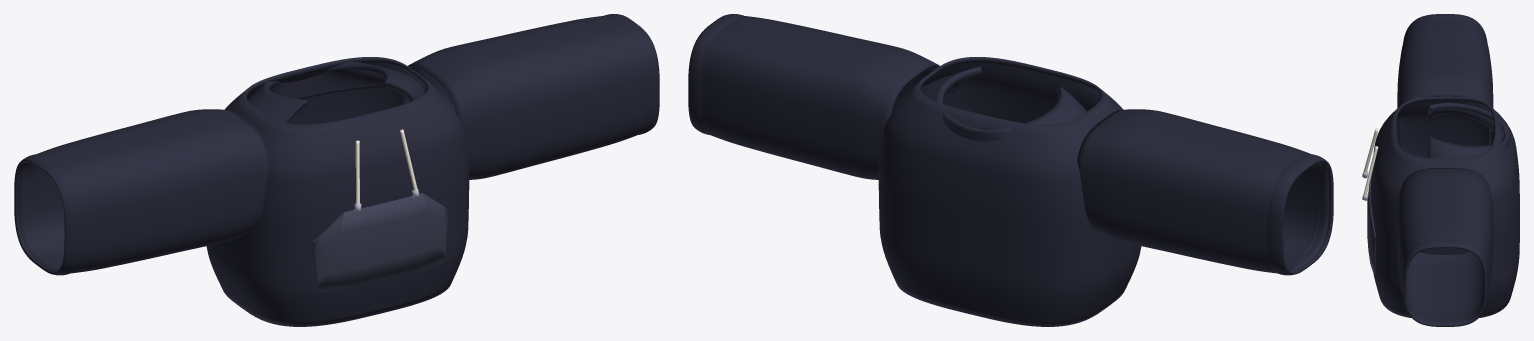
Rendered from homie_hoodie.glb.
3 views of the same model, side by side, from view 1: azimuth 30°, elevation 25°; view 2: azimuth 150°, elevation 25°; view 3: azimuth 270°, elevation 25° (orthographic). The views are drawn at different scales.
Parts seen in each view (by area): view 1: homie_hoodie__body, homie_hoodie__sleeve_r, homie_hoodie__sleeve_l, homie_hoodie__kangaroo_pocket, homie_hoodie__folded_hood, homie_hoodie__cuff_r, homie_hoodie__cuff_l; view 2: homie_hoodie__body, homie_hoodie__sleeve_r, homie_hoodie__sleeve_l, homie_hoodie__cuff_r, homie_hoodie__folded_hood, homie_hoodie__cuff_l; view 3: homie_hoodie__body, homie_hoodie__sleeve_l, homie_hoodie__sleeve_r, homie_hoodie__folded_hood, homie_hoodie__cuff_l, homie_hoodie__kangaroo_pocket, homie_hoodie__cuff_r, homie_hoodie__drawstring_l, homie_hoodie__drawstring_r.
Boxes of the visible parts, x1,y1,x2,y2 form: homie_hoodie__body: [206, 57, 469, 326]; homie_hoodie__sleeve_r: [18, 109, 270, 273]; homie_hoodie__sleeve_l: [401, 15, 646, 179]; homie_hoodie__kangaroo_pocket: [312, 193, 448, 292]; homie_hoodie__folded_hood: [248, 62, 424, 123]; homie_hoodie__cuff_r: [14, 154, 80, 275]; homie_hoodie__cuff_l: [604, 14, 659, 134]; homie_hoodie__body: [878, 57, 1141, 326]; homie_hoodie__sleeve_r: [1077, 109, 1329, 273]; homie_hoodie__sleeve_l: [701, 15, 946, 179]; homie_hoodie__cuff_r: [1267, 154, 1333, 275]; homie_hoodie__folded_hood: [921, 66, 1086, 141]; homie_hoodie__cuff_l: [688, 14, 743, 134]; homie_hoodie__body: [1370, 96, 1519, 317]; homie_hoodie__sleeve_l: [1397, 168, 1493, 324]; homie_hoodie__sleeve_r: [1397, 18, 1493, 149]; homie_hoodie__folded_hood: [1427, 103, 1509, 157]; homie_hoodie__cuff_l: [1402, 239, 1488, 326]; homie_hoodie__kangaroo_pocket: [1367, 177, 1375, 275]; homie_hoodie__cuff_r: [1403, 14, 1487, 41]; homie_hoodie__drawstring_l: [1363, 146, 1378, 194]; homie_hoodie__drawstring_r: [1363, 128, 1378, 172].
Size of the model in its own units: 3.05 by 0.9822 by 0.8739.
